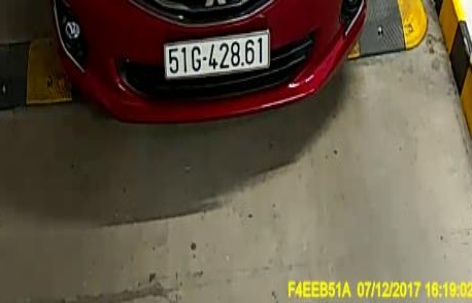plate: (156, 34, 278, 87)
